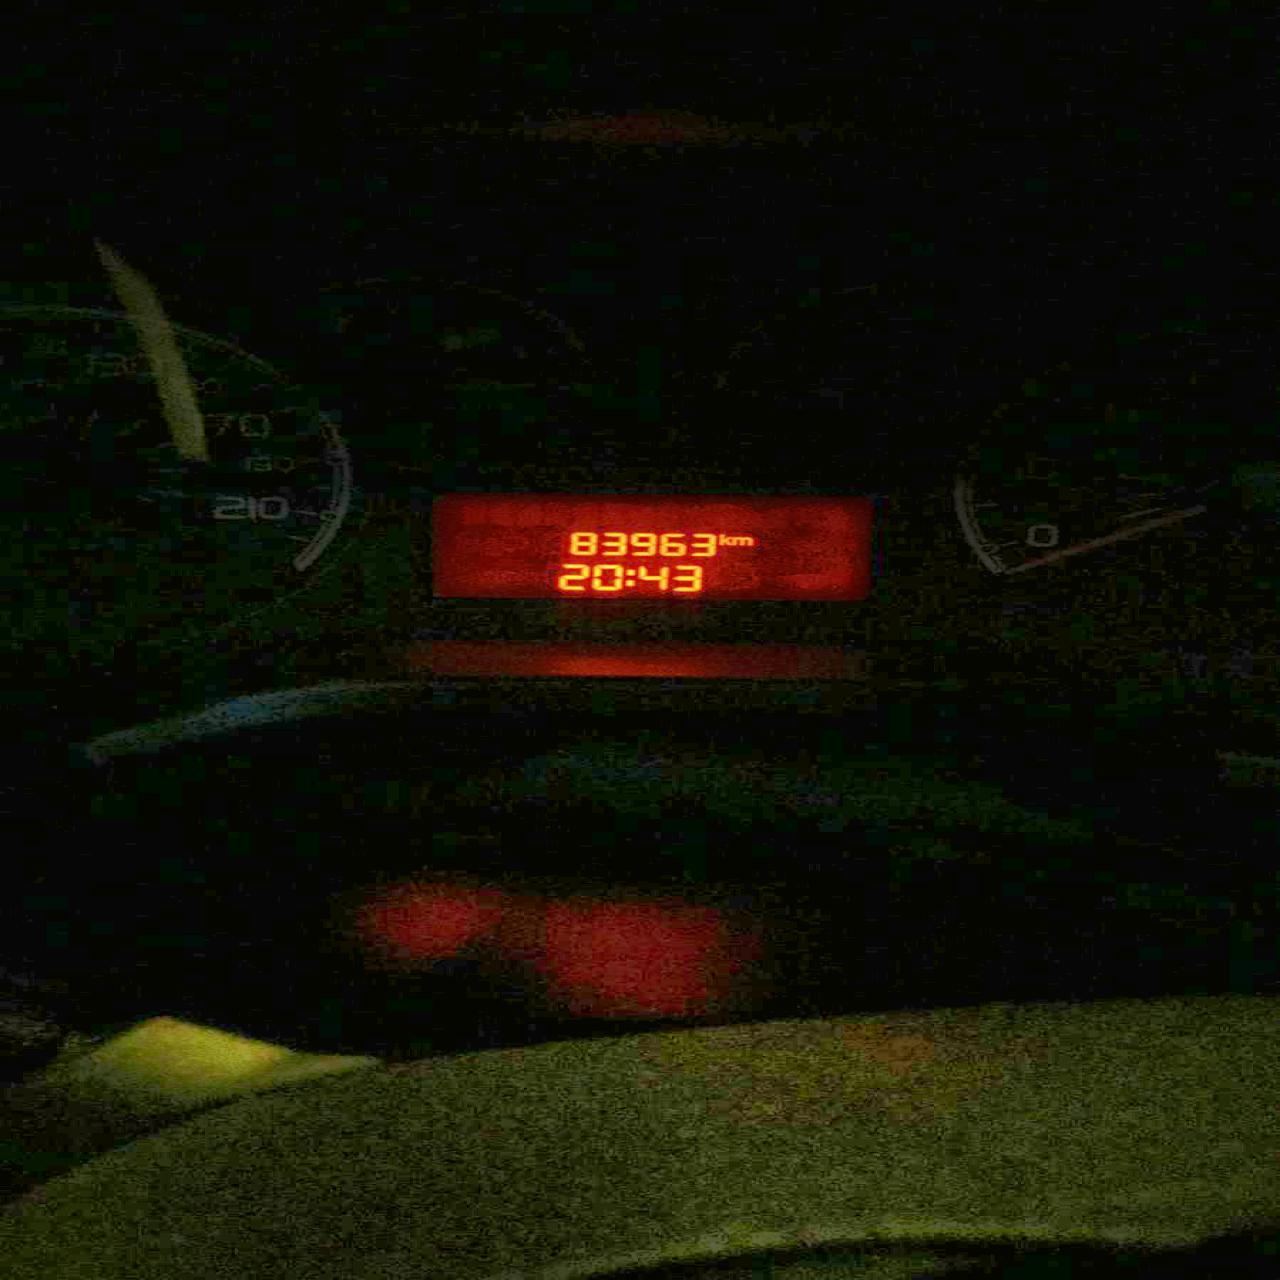0: (591, 563, 621, 590)
2: (558, 561, 588, 591)
3: (670, 564, 703, 593), (599, 530, 625, 556), (692, 532, 713, 557)
4: (638, 565, 668, 591)
6: (659, 531, 686, 556)
8: (568, 531, 597, 556)
9: (629, 531, 656, 556)
X: (730, 536, 754, 546), (624, 567, 635, 586), (717, 532, 730, 546)
odometer: (430, 493, 870, 600)
